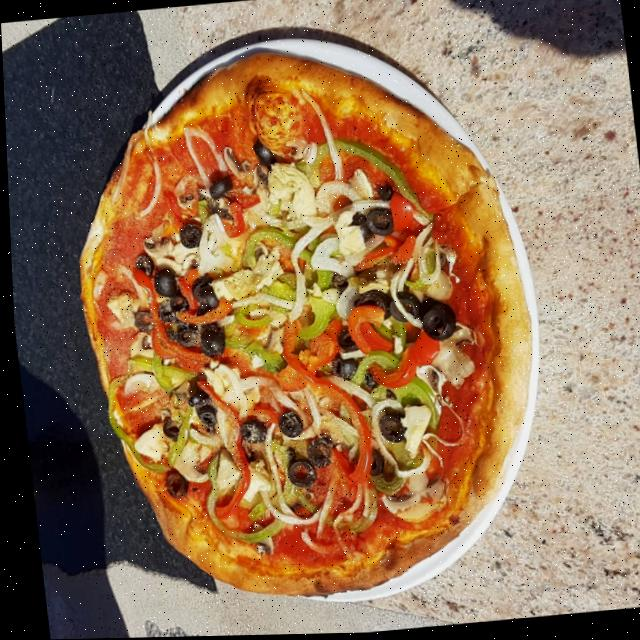black_olives: (415, 304, 453, 343), (350, 288, 388, 325), (383, 289, 417, 323), (194, 320, 224, 357), (373, 411, 404, 446), (302, 434, 331, 468), (232, 418, 263, 448), (282, 457, 311, 489), (361, 211, 392, 239), (273, 408, 300, 439), (206, 172, 233, 201), (174, 223, 201, 250), (362, 444, 381, 481), (252, 140, 274, 171), (327, 355, 354, 380), (159, 471, 183, 499), (197, 279, 218, 311), (346, 212, 369, 241), (332, 326, 356, 353), (150, 267, 173, 295), (187, 275, 210, 302), (181, 386, 206, 409), (189, 405, 215, 427), (161, 321, 190, 340), (172, 327, 197, 349), (131, 252, 152, 276), (153, 299, 175, 321), (165, 291, 187, 313), (130, 310, 152, 331), (159, 419, 176, 441), (374, 187, 394, 199), (189, 301, 204, 317), (360, 371, 372, 390)
mushrooms: (373, 469, 447, 526), (421, 327, 474, 392), (165, 437, 206, 486), (123, 329, 153, 374), (137, 233, 172, 262), (218, 143, 244, 182), (246, 521, 267, 557), (249, 165, 269, 188), (174, 188, 194, 210)
pizza: (48, 26, 559, 618)
